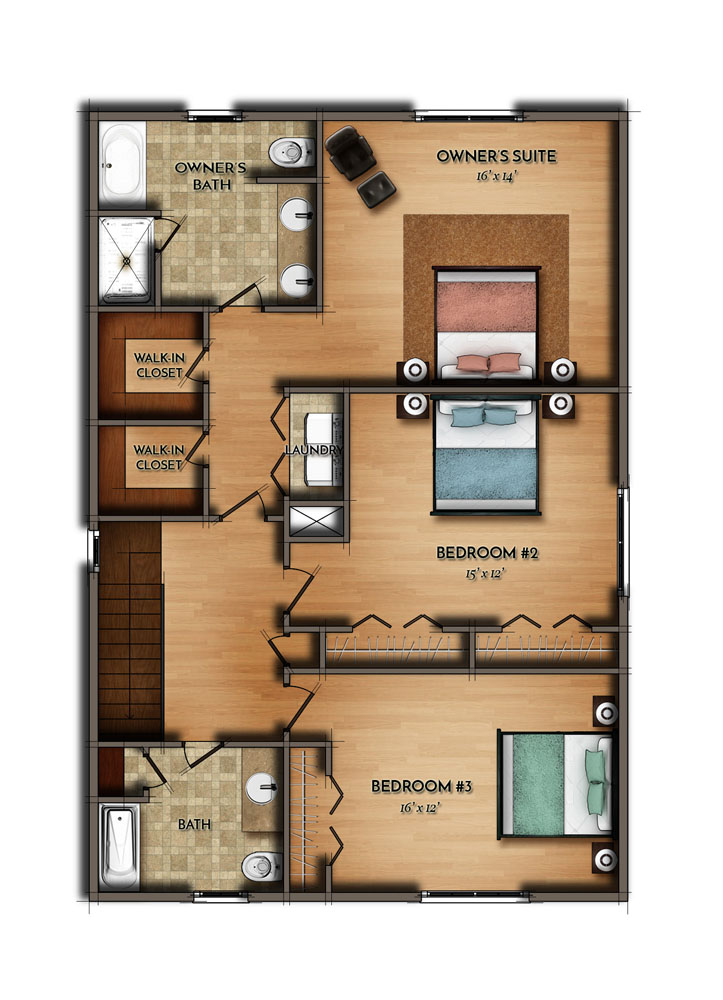room: (316, 109, 629, 393), (286, 387, 629, 633), (282, 669, 628, 902), (90, 110, 323, 313), (90, 741, 290, 902)
